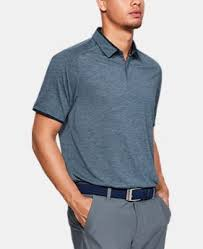C_polo shirt: (36, 34, 173, 184)
